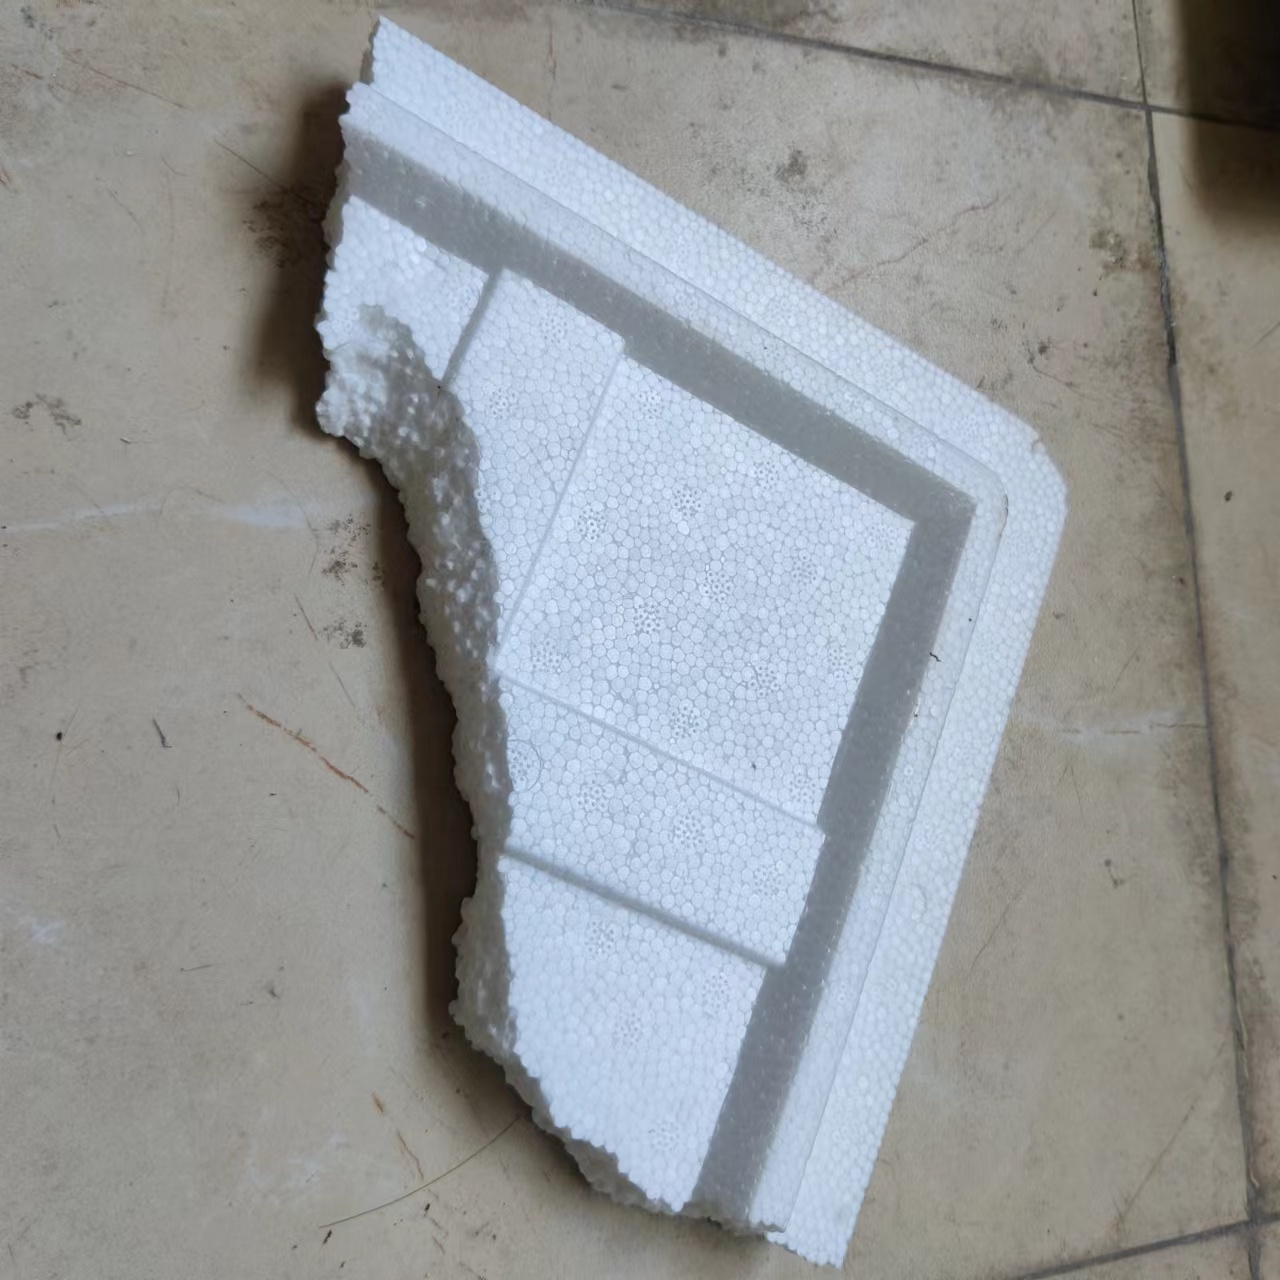5/可回收垃圾/泡沫: (307, 12, 1065, 1267)
